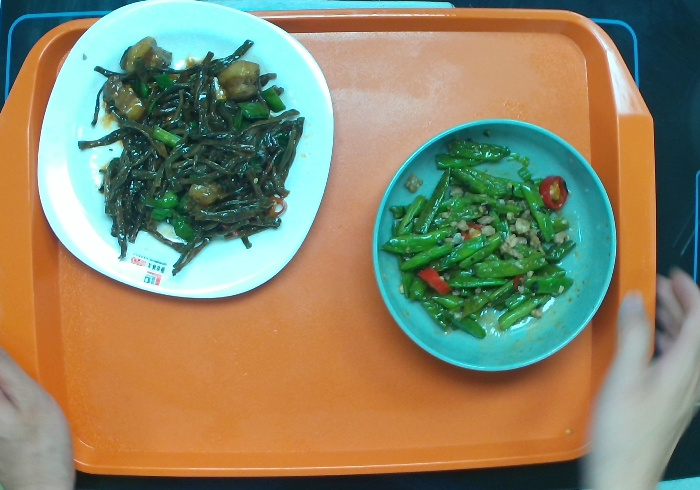ZNLD-Qing_Hua_Yuan_Wan: (371, 118, 621, 373)
ZNLD-Yuan_Jiao_Pan: (38, 1, 332, 301)
